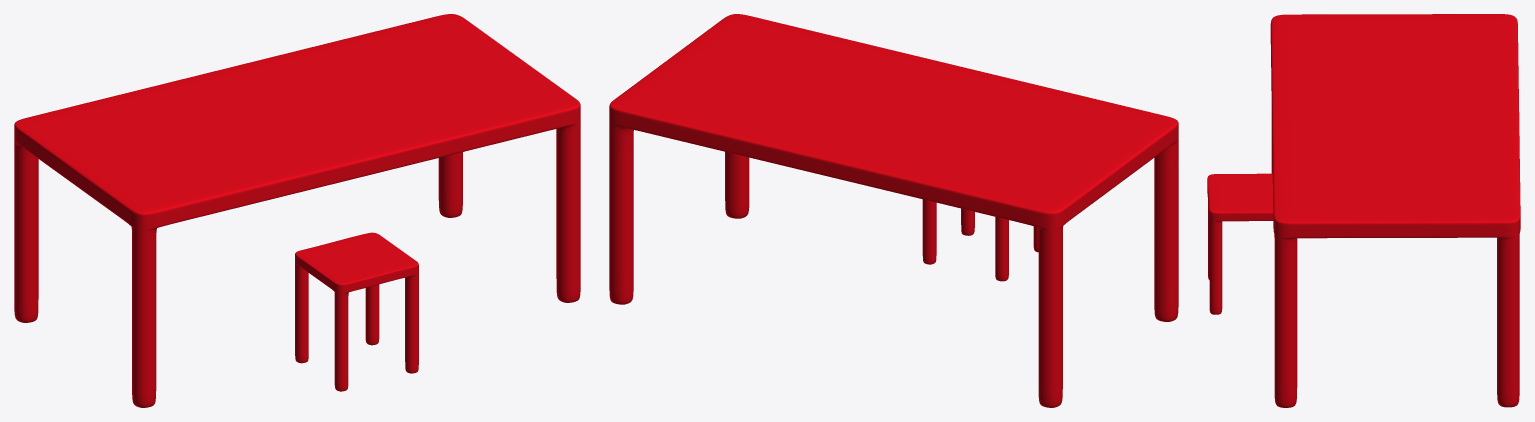
Rendered from table and chair.fbx.
3 views of the same model, side by side, from view 1: azimuth 30°, elevation 25°; view 2: azimuth 150°, elevation 25°; view 3: azimuth 270°, elevation 25° (orthographic). The views are drawn at different scales.
Parts seen in each view (by area): view 1: Table, Table.001; view 2: Table, Table.001; view 3: Table, Table.001.
Boxes of the visible parts, bbox=[...] form: Table: bbox=[14, 14, 580, 407]; Table.001: bbox=[295, 232, 418, 391]; Table: bbox=[609, 14, 1178, 407]; Table.001: bbox=[922, 199, 1038, 281]; Table: bbox=[1270, 14, 1520, 407]; Table.001: bbox=[1207, 173, 1273, 314].
Size of the model in its own units: 179 by 74.48 by 113.
